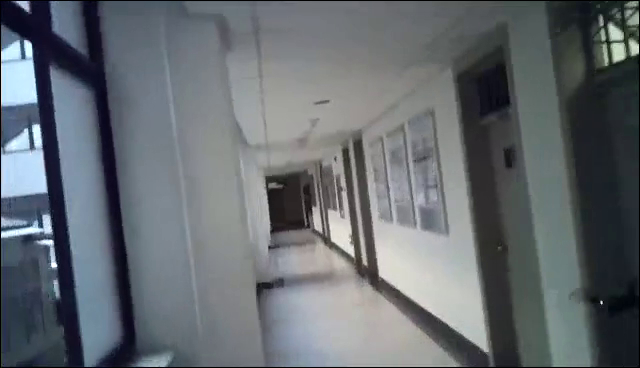drone: (568, 279, 640, 319)
